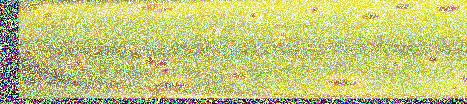Bacterial_Leaf_Blight: (137, 51, 182, 76), (317, 75, 364, 92), (65, 52, 84, 84), (148, 78, 190, 91), (34, 8, 57, 31), (433, 0, 464, 16), (448, 67, 467, 93), (213, 68, 253, 80), (357, 10, 385, 27), (189, 1, 209, 24), (27, 48, 53, 64), (280, 51, 298, 72), (203, 25, 224, 40), (389, 54, 401, 77), (422, 49, 438, 66), (160, 0, 178, 15), (274, 27, 289, 43), (281, 0, 299, 13), (90, 26, 102, 45), (117, 11, 133, 25), (390, 3, 414, 12), (246, 9, 258, 23), (308, 4, 319, 17)
